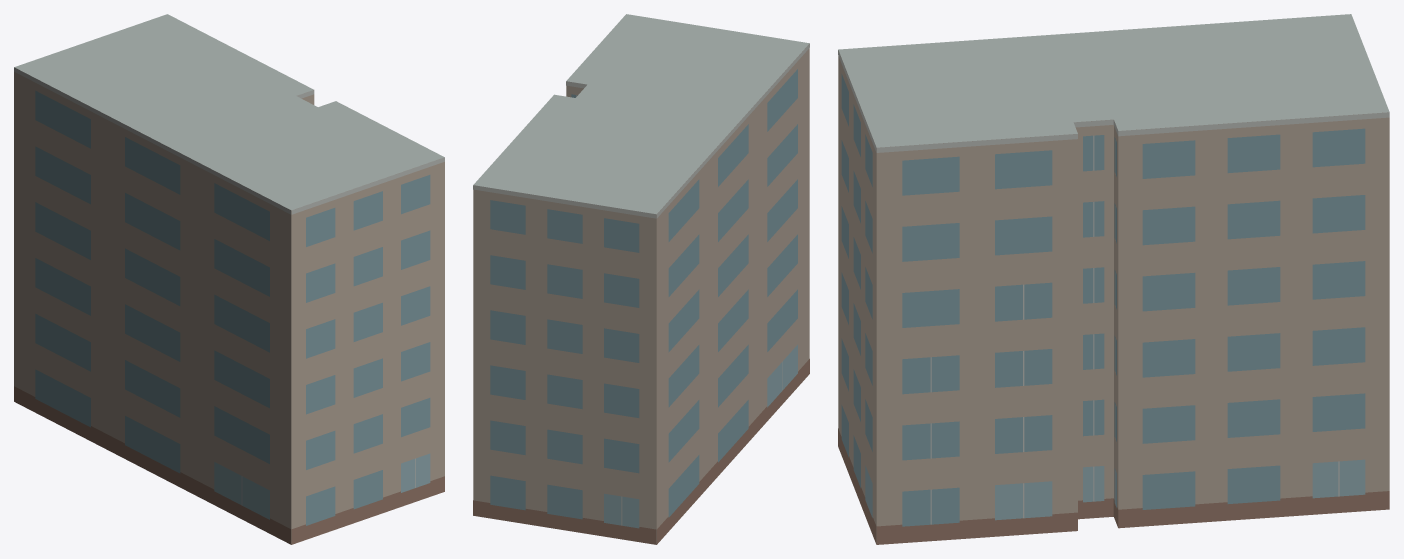
Rendered from survey-upis-32972806.glb.
The picture shows the model from 3 angles, left to right: view 1: azimuth 30°, elevation 25°; view 2: azimuth 150°, elevation 25°; view 3: azimuth 270°, elevation 25°; orthographic projection. The views are drawn at different scales.
Visible parts, largest first — view 1: survey-upis-32972806.tmp; view 2: survey-upis-32972806.tmp; view 3: survey-upis-32972806.tmp.
Part boxes in pixels (x1,y1,x2,y2): survey-upis-32972806.tmp: (14,14,444,544); survey-upis-32972806.tmp: (473,14,809,544); survey-upis-32972806.tmp: (838,14,1389,544).
Size of the model in its own units: 13.22 by 18.3 by 23.04.
